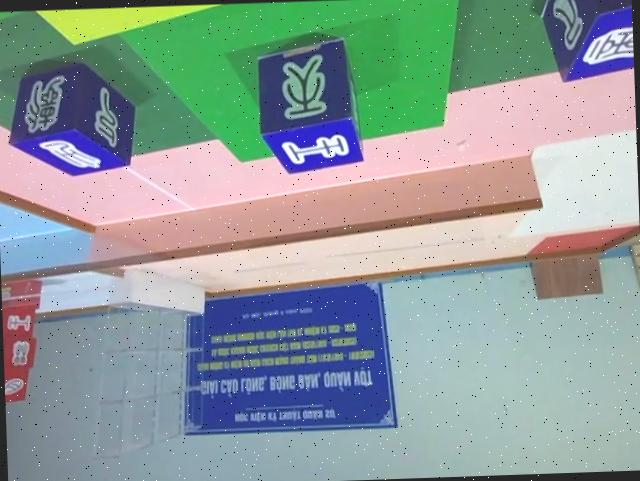R2 Fake Blue: (5, 54, 138, 175), (258, 34, 369, 173), (535, 0, 634, 81)
